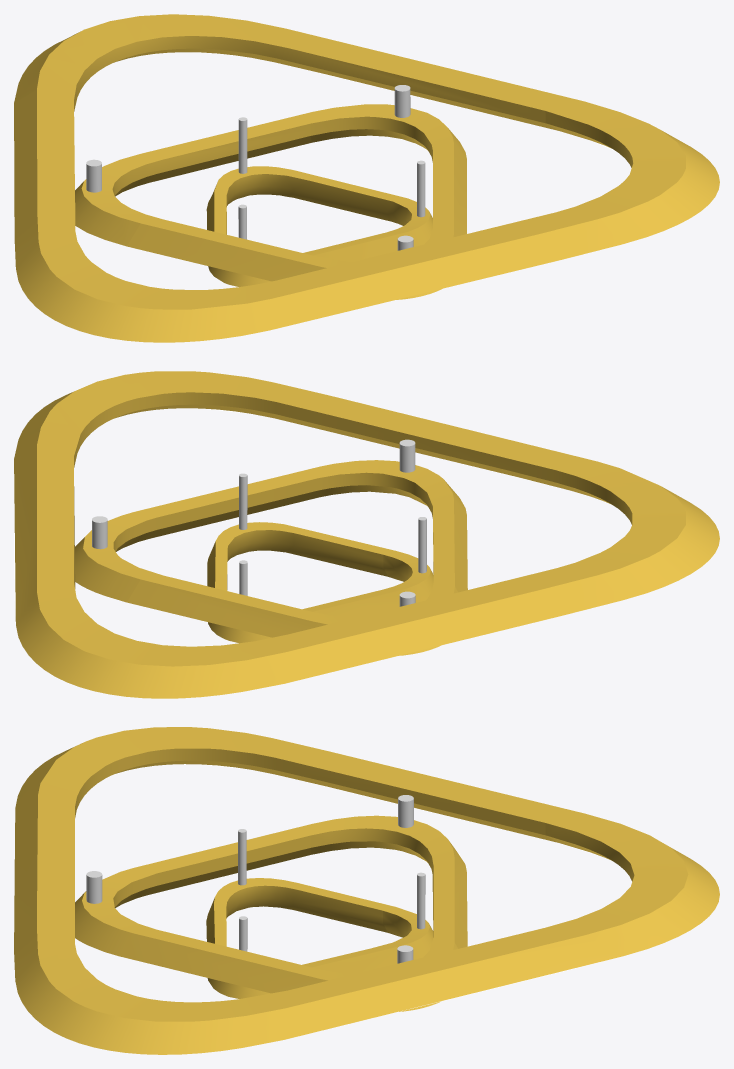
Rendered from ceiling_modern.glb.
3 views of the same model, one above another, from view 1: azimuth 30°, elevation 25°; view 2: azimuth 150°, elevation 25°; view 3: azimuth 270°, elevation 25° (orthographic).
Parts seen in each view (by area): view 1: Object_4, Object_6; view 2: Object_4, Object_6; view 3: Object_4, Object_6, Object_5.
Part boxes in pixels (box(x1,y1,x2,y2)): Object_4: box(14, 14, 719, 342); Object_6: box(86, 85, 425, 250); Object_4: box(14, 371, 719, 698); Object_6: box(92, 439, 426, 606); Object_4: box(14, 727, 719, 1054); Object_6: box(86, 795, 425, 963); Object_5: box(111, 764, 613, 1025).
Size of the model in its own units: 1.48 by 0.1651 by 1.38.
